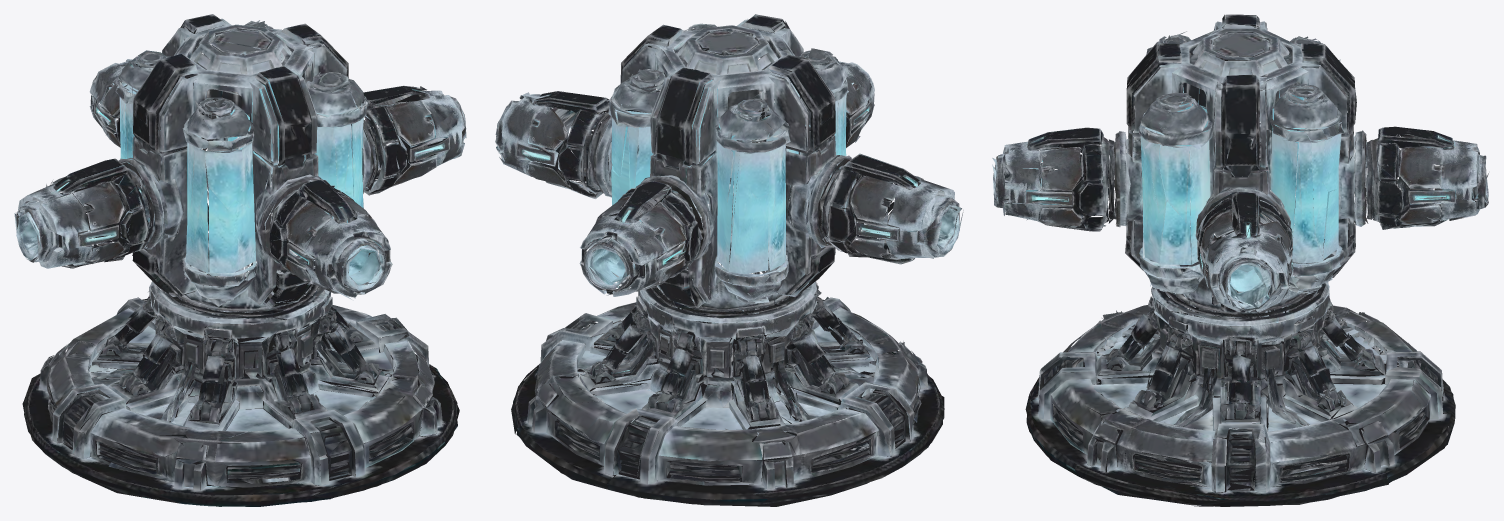
Rendered from tower_cryo.glb.
3 views of the same model, side by side, from view 1: azimuth 30°, elevation 25°; view 2: azimuth 150°, elevation 25°; view 3: azimuth 270°, elevation 25° (orthographic).
Visible parts, largest first — view 1: head, base; view 2: head, base; view 3: head, base.
Boxes of the visible parts, <box> form: head: <box>14,14,466,308</box>; base: <box>22,252,459,506</box>; head: <box>495,14,963,307</box>; base: <box>511,248,944,506</box>; head: <box>992,14,1488,313</box>; base: <box>1025,251,1455,506</box>.
Bounding box in the file's own units: 0.9904 × 0.8138 × 0.9747.
Materials: 1 (1 with a texture image).
